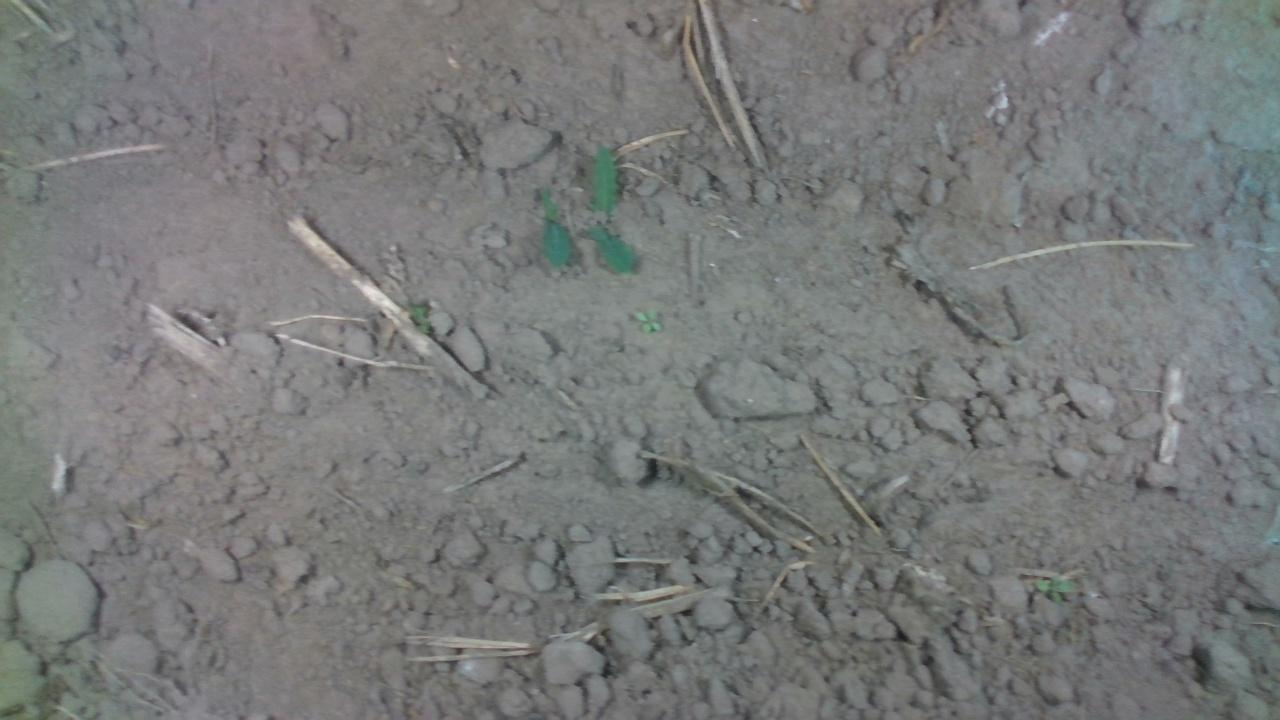weed: (583, 144, 635, 275), (536, 183, 573, 269), (629, 303, 661, 334)
